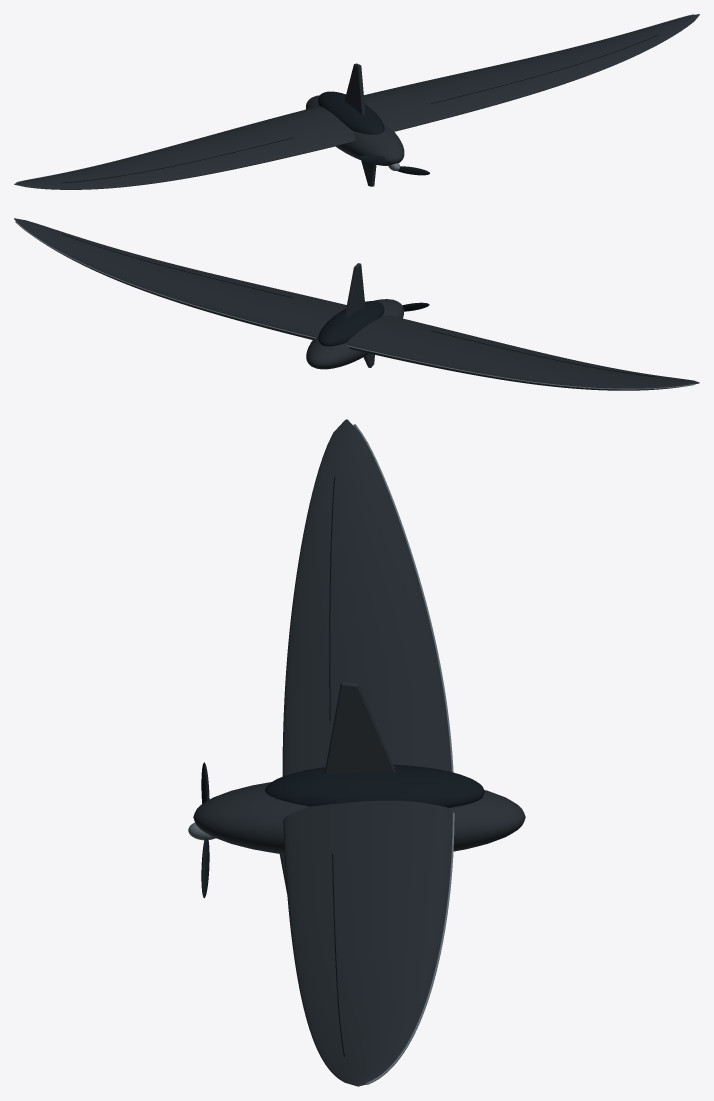
The model's file is x721-wing.glb.
3 views of the same model, one above another, from view 1: azimuth 30°, elevation 25°; view 2: azimuth 150°, elevation 25°; view 3: azimuth 270°, elevation 25° (orthographic). The views are drawn at different scales.
Visible parts, largest first — view 1: wing_shell, central_fairing, upper_fairing, dorsal_fin; view 2: wing_shell, central_fairing, upper_fairing, leading_edge, dorsal_fin; view 3: wing_shell, central_fairing, upper_fairing, dorsal_fin, leading_edge.
Part boxes in pixels (x1,y1,x2,y2): wing_shell: (14,14,699,189); central_fairing: (305,95,404,165); upper_fairing: (318,91,384,134); dorsal_fin: (344,63,365,114); wing_shell: (14,218,699,390); central_fairing: (306,299,403,369); upper_fairing: (318,301,384,346); leading_edge: (15,221,693,389); dorsal_fin: (344,263,365,317); wing_shell: (282,419,452,1086); central_fairing: (193,782,525,854); upper_fairing: (265,764,484,807); dorsal_fin: (324,681,395,774); leading_edge: (353,424,454,1084).
Size of the model in its own units: 2.2 by 0.3441 by 0.471.
